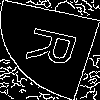R: (25, 24, 89, 71)
